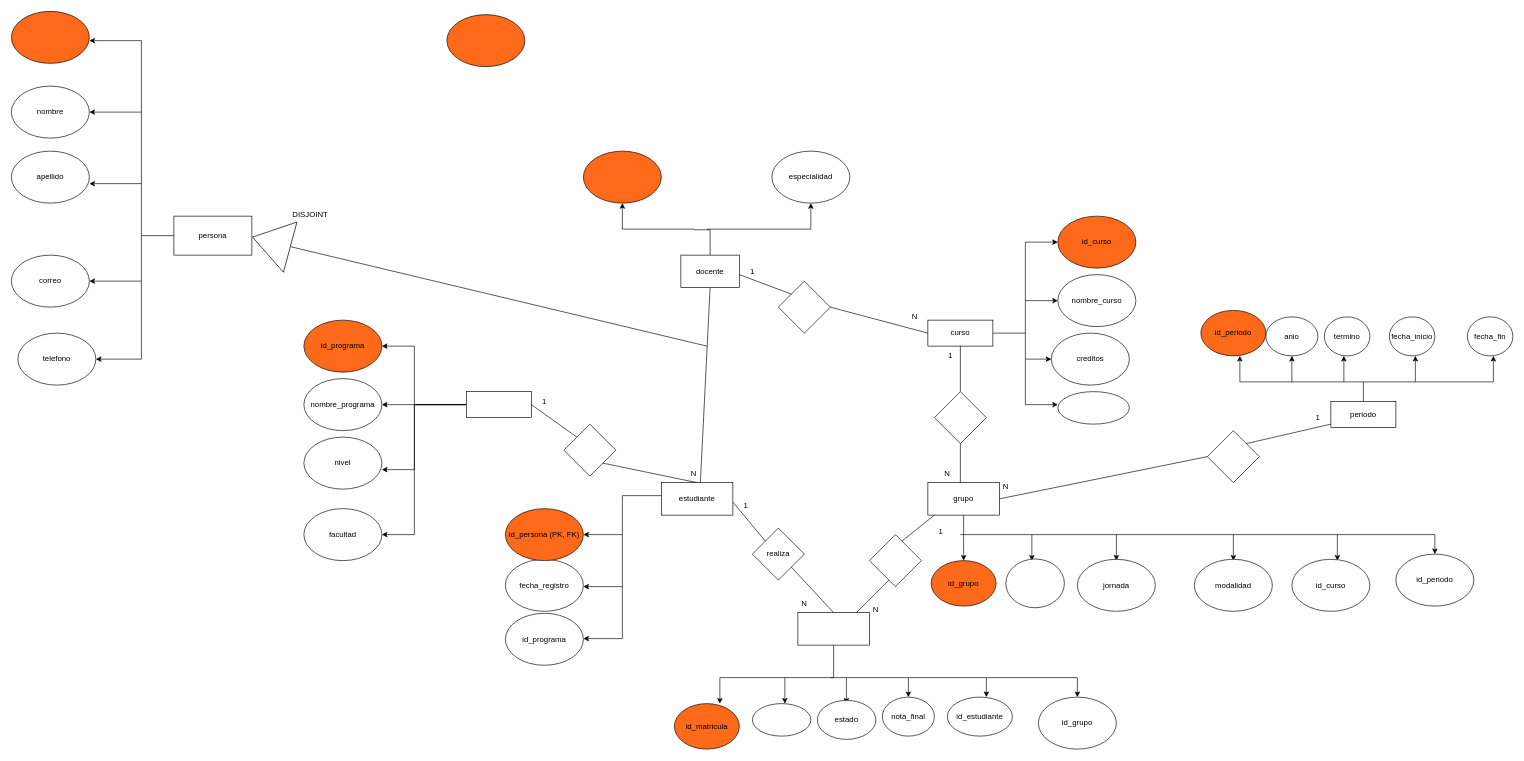
The diagram is 1524 pixels wide and 761 high, and some of its shapes have lost their labels. Here are the shapes that lost their labels. From the top down, the centre of each, then its label:
point 50,37: id_persona
point 485,40: CLAVE PRIMARIA
point 622,176: id_persona(PK, FK)
point 804,306: dicta
point 498,404: programa
point 960,417: oferta
point 1093,407: descripcion
point 589,449: pertenece
point 1233,456: se dicta en
point 895,560: recibe
point 1034,583: cupo_maximo
point 833,628: matricula
point 781,719: fecha_matricula
